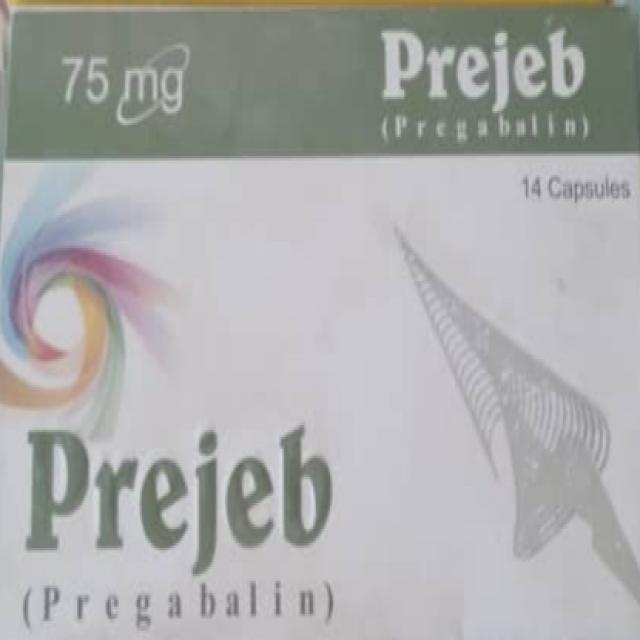drug-name: (24, 423, 348, 579)
